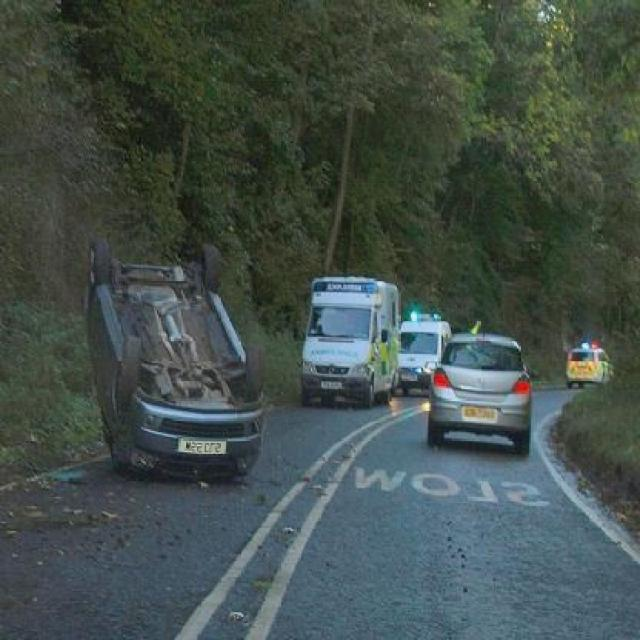Car: (76, 236, 268, 484), (422, 334, 536, 448)
Van: (297, 274, 404, 408), (384, 310, 454, 401), (561, 342, 620, 389)
